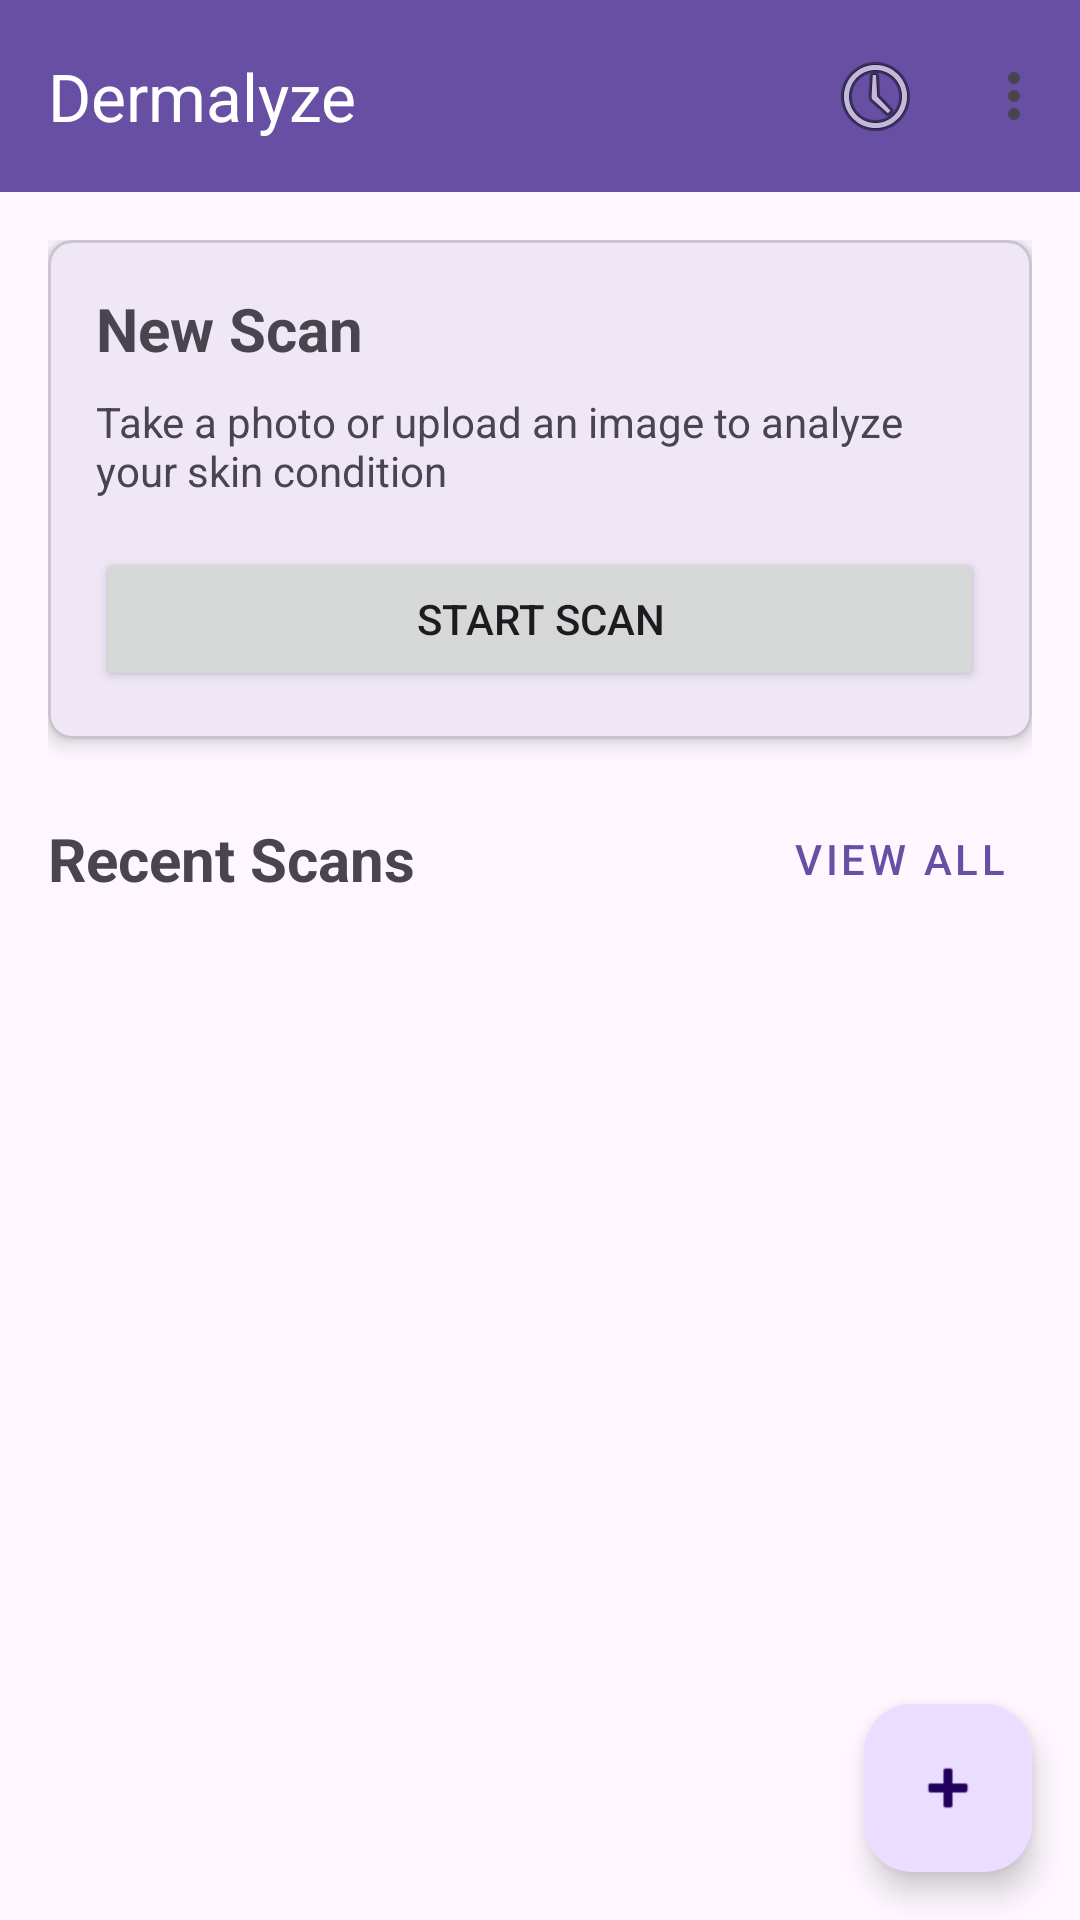

Named icons in this screenshot (1080 x 1920) and their bounding boxes, (x1, y1, x2, y2):
New Scan: (864, 1704, 1032, 1872)
